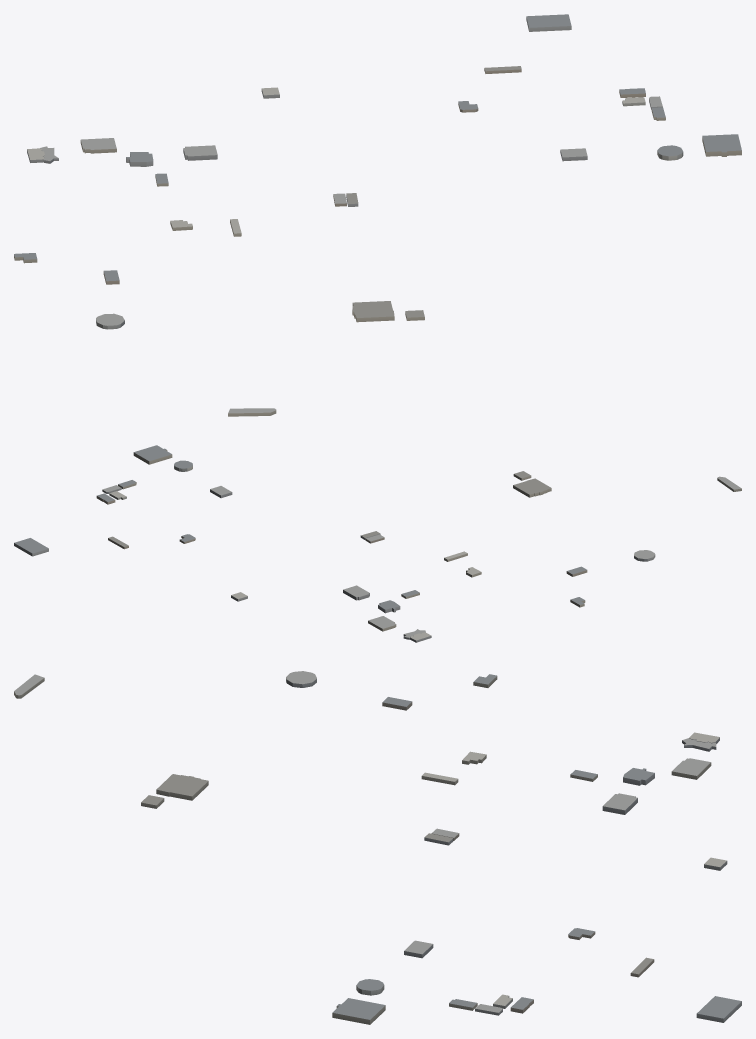
File: bld_18_10.fbx
3 renders of one model, top to bottom at view 1: azimuth 30°, elevation 25°; view 2: azimuth 150°, elevation 25°; view 3: azimuth 270°, elevation 25°, orthographic. The views are drawn at different scales.
Visible parts, largest first — view 1: bld_18_10_LOD0; view 2: bld_18_10_LOD0; view 3: bld_18_10_LOD0.
Boxes of the visible parts, x1,y1,x2,y2 form: bld_18_10_LOD0: (14,14,741,416); bld_18_10_LOD0: (14,445,741,642); bld_18_10_LOD0: (14,671,741,1024).
Bounding box in the file's own units: 2062 × 13.88 × 1812.
